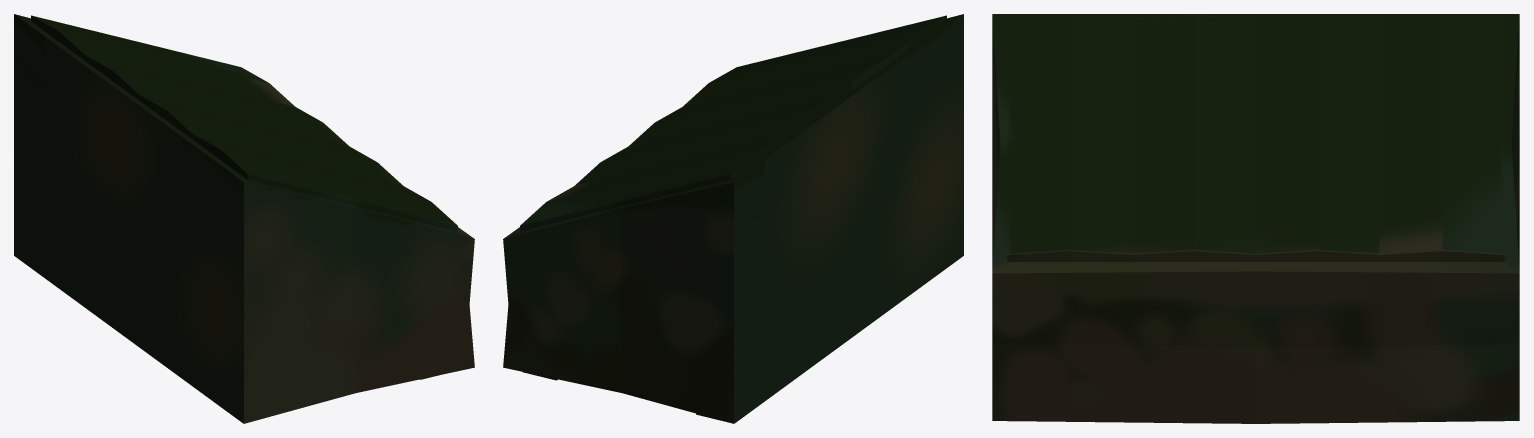
The model's file is dumpster 1.fbx.
The picture shows the model from 3 angles, left to right: view 1: azimuth 30°, elevation 25°; view 2: azimuth 150°, elevation 25°; view 3: azimuth 270°, elevation 25°; orthographic projection. The views are drawn at different scales.
Parts seen in each view (by area): view 1: Cube; view 2: Cube; view 3: Cube.
Part boxes in pixels (x1=…): Cube: x1=14, y1=14, x2=474, y2=423; Cube: x1=503, y1=14, x2=963, y2=423; Cube: x1=992, y1=14, x2=1519, y2=423.
Bounding box in the file's own units: 206 × 209 × 344.
1 material, 1 textured.
